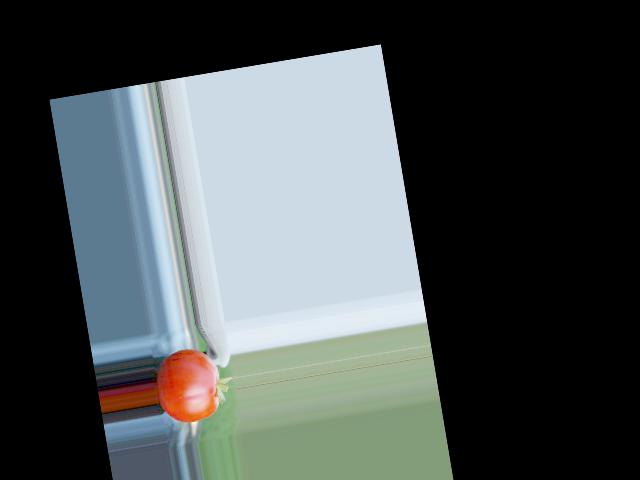tomato: (151, 345, 226, 427)
